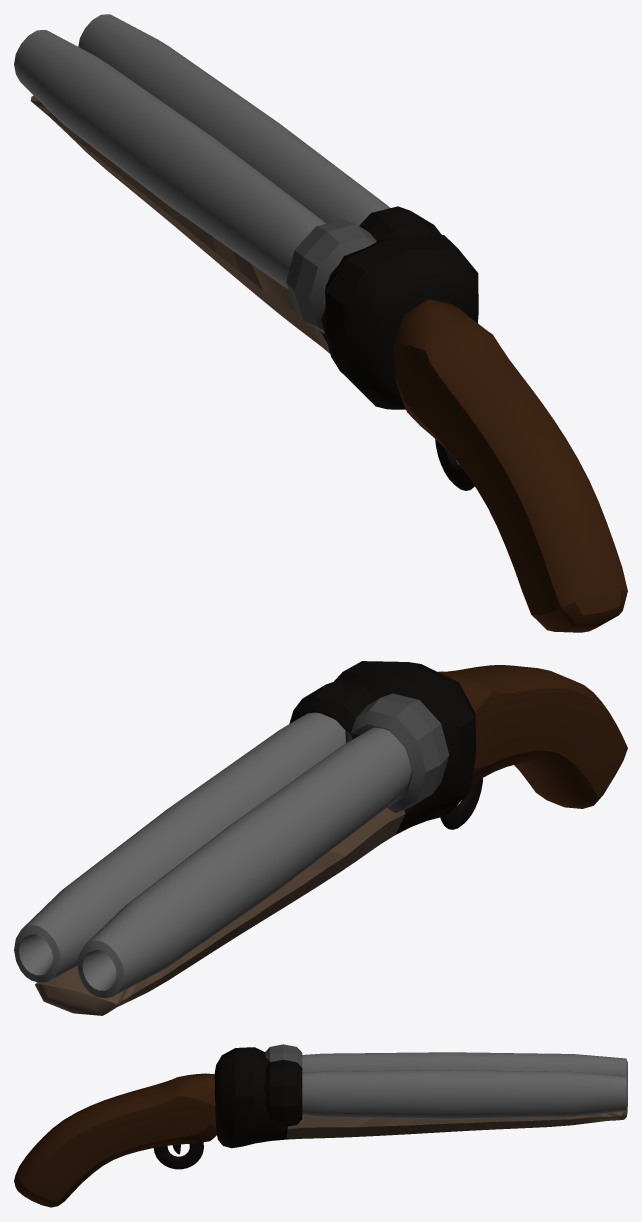
File: Shotgun.fbx
3 views of the same model, one above another, from view 1: azimuth 30°, elevation 25°; view 2: azimuth 150°, elevation 25°; view 3: azimuth 270°, elevation 25° (orthographic). The views are drawn at different scales.
Visible parts, largest first — view 1: Cylinder.002, Cube, Cube.001, Torus.001, Torus; view 2: Cylinder.002, Cube, Cube.001, Torus.001, Torus, Cube.003; view 3: Cylinder.002, Cube, Cube.001, Torus, Cube.003, Torus.001.
Part boxes in pixels (<box>): Cylinder.002: <box>14,14,389,288</box>; Cube: <box>393,299,627,632</box>; Cube.001: <box>30,95,478,409</box>; Torus.001: <box>286,219,376,333</box>; Torus: <box>359,206,441,240</box>; Cylinder.002: <box>14,712,411,997</box>; Cube: <box>438,665,627,808</box>; Cube.001: <box>35,661,476,1015</box>; Torus.001: <box>345,693,449,812</box>; Torus: <box>289,680,374,739</box>; Cube.003: <box>440,778,482,829</box>; Cylinder.002: <box>302,1052,627,1119</box>; Cube: <box>14,1073,216,1207</box>; Cube.001: <box>214,1047,627,1148</box>; Torus: <box>264,1059,302,1126</box>; Cube.003: <box>153,1142,203,1169</box>; Torus.001: <box>264,1044,302,1067</box>.
Bounding box in the file's own units: 78.78 × 132 × 493.
